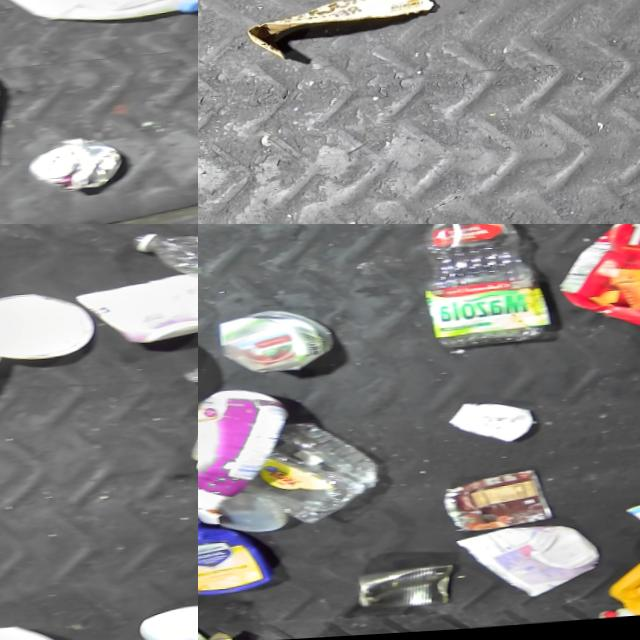can: (211, 310, 331, 379), (434, 474, 546, 538), (22, 142, 119, 194), (343, 569, 448, 614)
milk_jug: (0, 0, 198, 30), (614, 478, 640, 548)
non_white_jug: (198, 388, 286, 528), (198, 479, 263, 600), (583, 542, 640, 624)
plastic_bottle: (415, 224, 547, 354), (128, 232, 198, 322), (182, 436, 198, 480)
